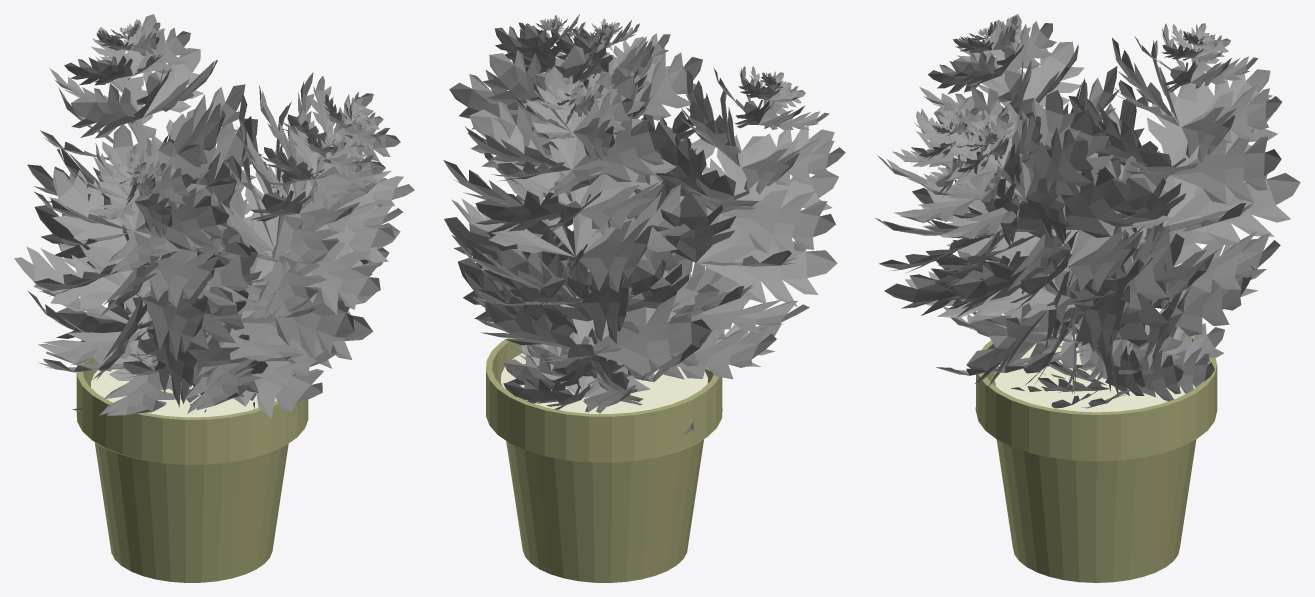
File: house_plant.obj
3 views of the same model, side by side, from view 1: azimuth 30°, elevation 25°; view 2: azimuth 150°, elevation 25°; view 3: azimuth 270°, elevation 25° (orthographic). The views are drawn at different scales.
Visible parts, largest first — view 1: (null); view 2: (null); view 3: (null).
Part boxes in pixels (x1,y1,x2,y2): (null): (14,14,414,582); (null): (443,14,845,582); (null): (875,14,1300,582).
Size of the model in its own units: 57.13 by 74.02 by 56.11.
